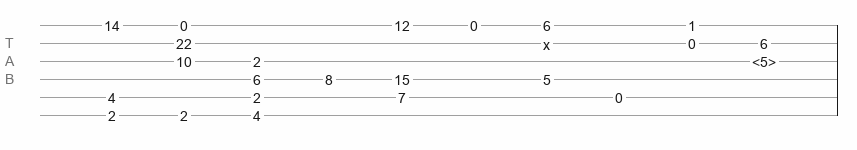0: (180, 18, 188, 28), (470, 18, 478, 28), (615, 90, 623, 100), (688, 36, 696, 46)
1: (688, 18, 696, 28)
10: (176, 54, 192, 64)
12: (394, 18, 410, 28)
14: (104, 18, 120, 28)
15: (394, 72, 410, 82)
2: (108, 108, 116, 118), (180, 108, 188, 118), (253, 90, 261, 100), (253, 54, 261, 64)
22: (176, 36, 192, 46)
4: (108, 90, 116, 100), (253, 108, 261, 118)
5: (543, 72, 551, 82)
6: (253, 72, 261, 82), (543, 18, 551, 28), (760, 36, 768, 46)
7: (398, 90, 406, 100)
8: (325, 72, 333, 82)
harmonic: (752, 54, 776, 64)
x: (543, 37, 550, 45)
